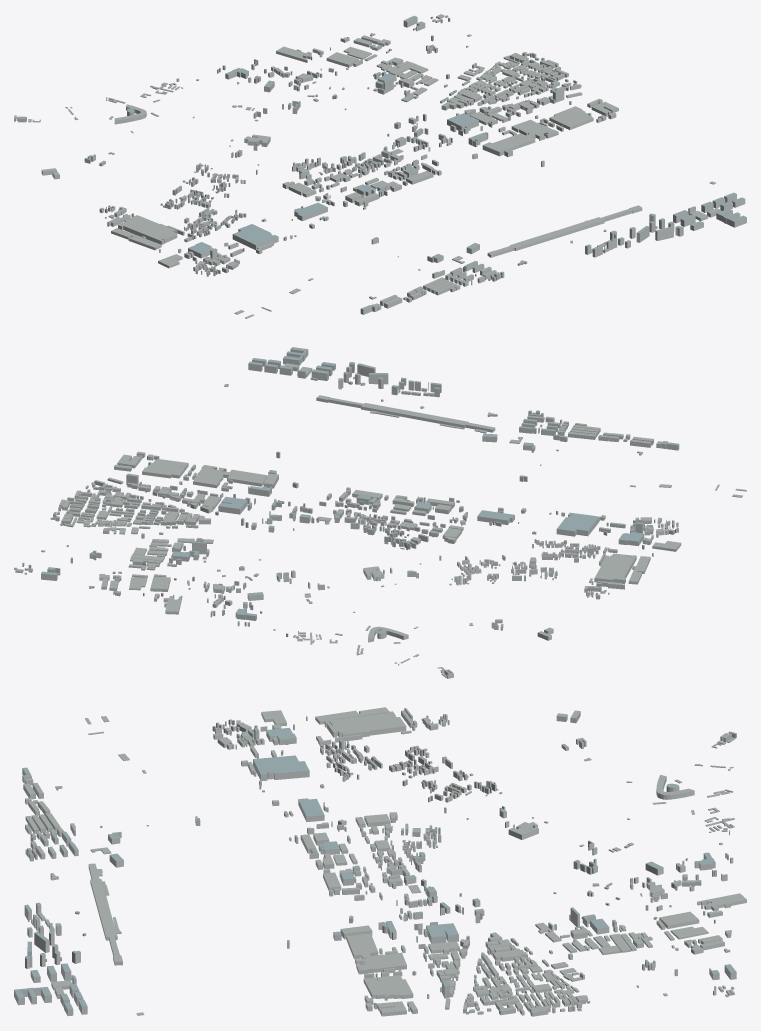
The model's file is far.glb.
The picture shows the model from 3 angles, top to bottom: view 1: azimuth 30°, elevation 25°; view 2: azimuth 150°, elevation 25°; view 3: azimuth 270°, elevation 25°; orthographic projection. The views are drawn at different scales.
Bounding box in the file's own units: 2147 × 43.85 × 2171.
